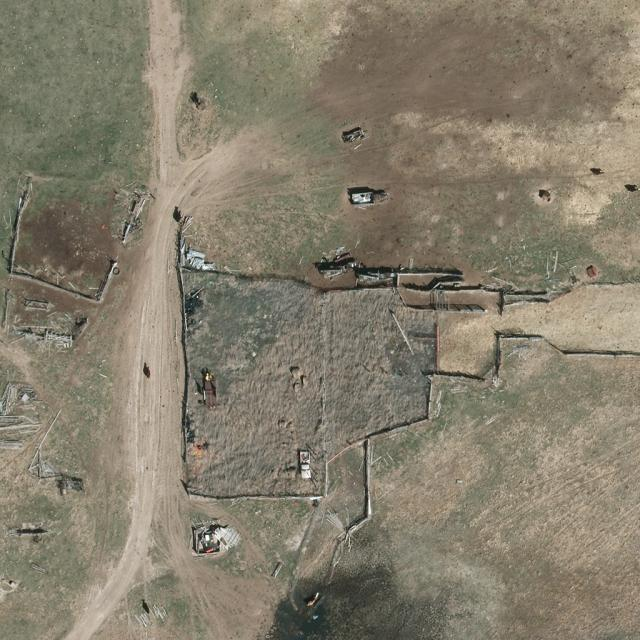vehicle: (350, 192, 390, 206), (298, 450, 312, 480)
